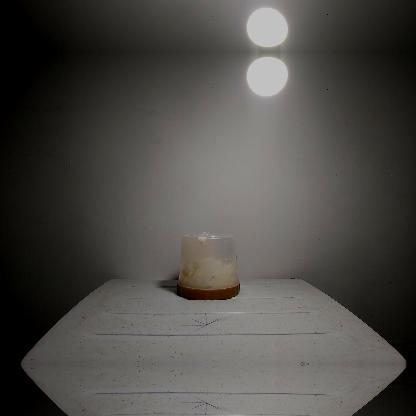Lady-s-Choice: (174, 228, 242, 301)
